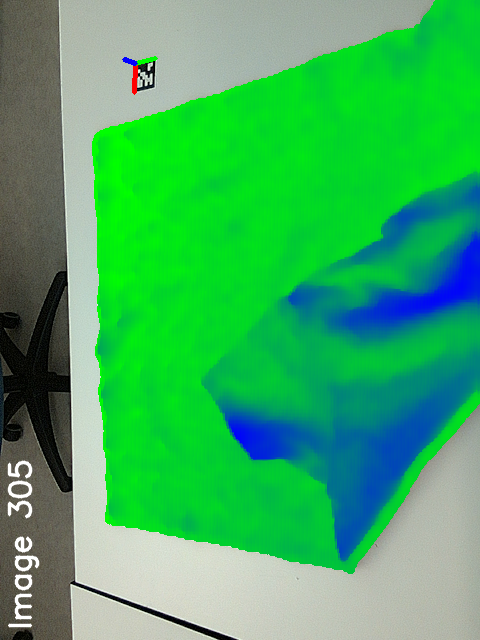V: (182, 350, 226, 396), (227, 436, 275, 477)
